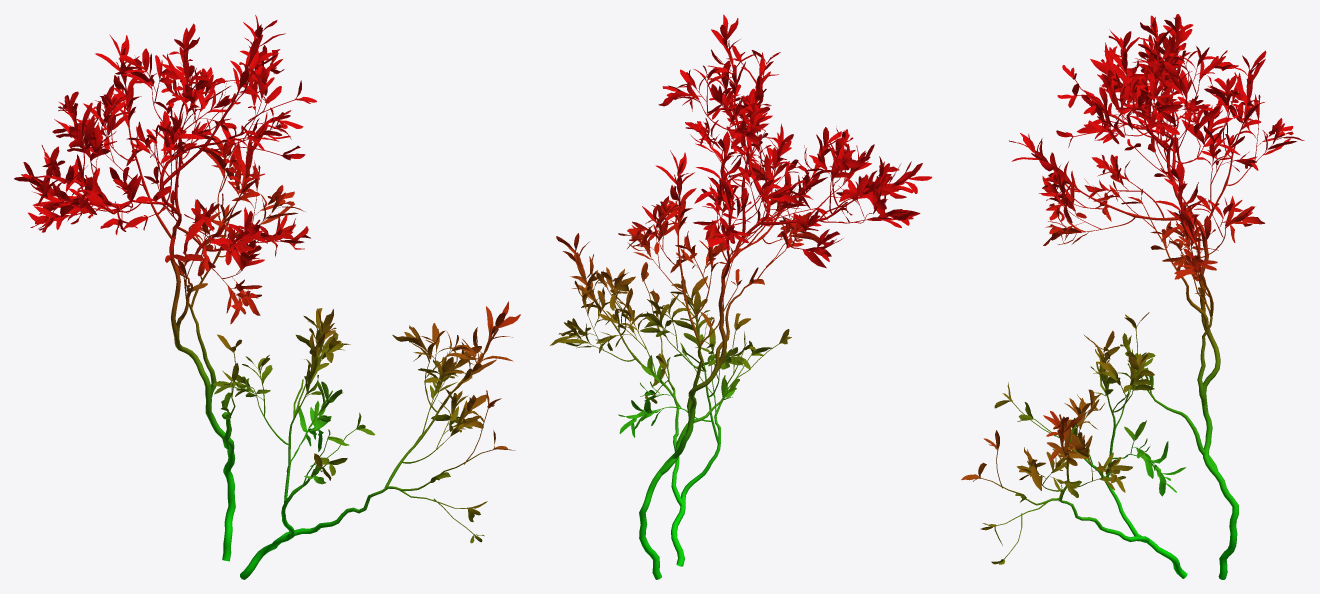
Rendered from Downy Willow_LOD1_Var7_wknlfiuqx.fbx.
3 views of the same model, side by side, from view 1: azimuth 30°, elevation 25°; view 2: azimuth 150°, elevation 25°; view 3: azimuth 270°, elevation 25° (orthographic). The views are drawn at different scales.
Parts seen in each view (by area): view 1: _8e1v_Var7_LOD1; view 2: _8e1v_Var7_LOD1; view 3: _8e1v_Var7_LOD1.
Part boxes in pixels (x1,y1,x2,y2): _8e1v_Var7_LOD1: (14,15,520,579); _8e1v_Var7_LOD1: (550,14,931,579); _8e1v_Var7_LOD1: (961,14,1304,579).
Bounding box in the file's own units: 125 × 159 × 91.99.
